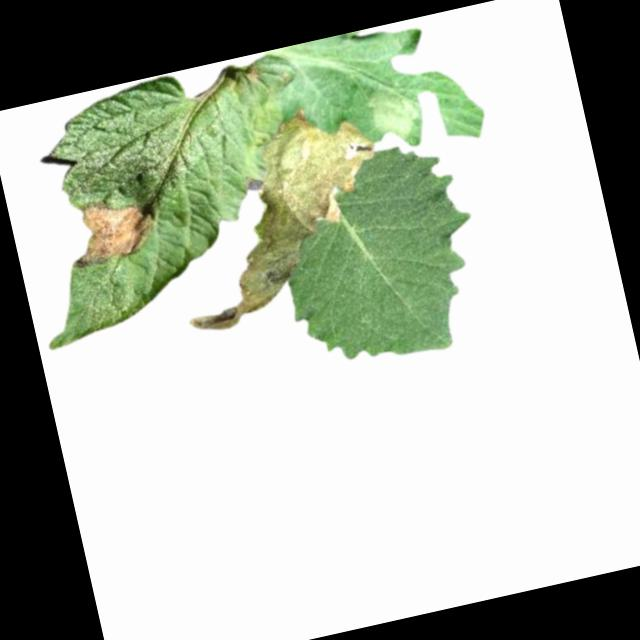Late_blight: (146, 96, 406, 337), (62, 189, 164, 267), (367, 77, 428, 145)
healthy: (262, 134, 496, 380)
